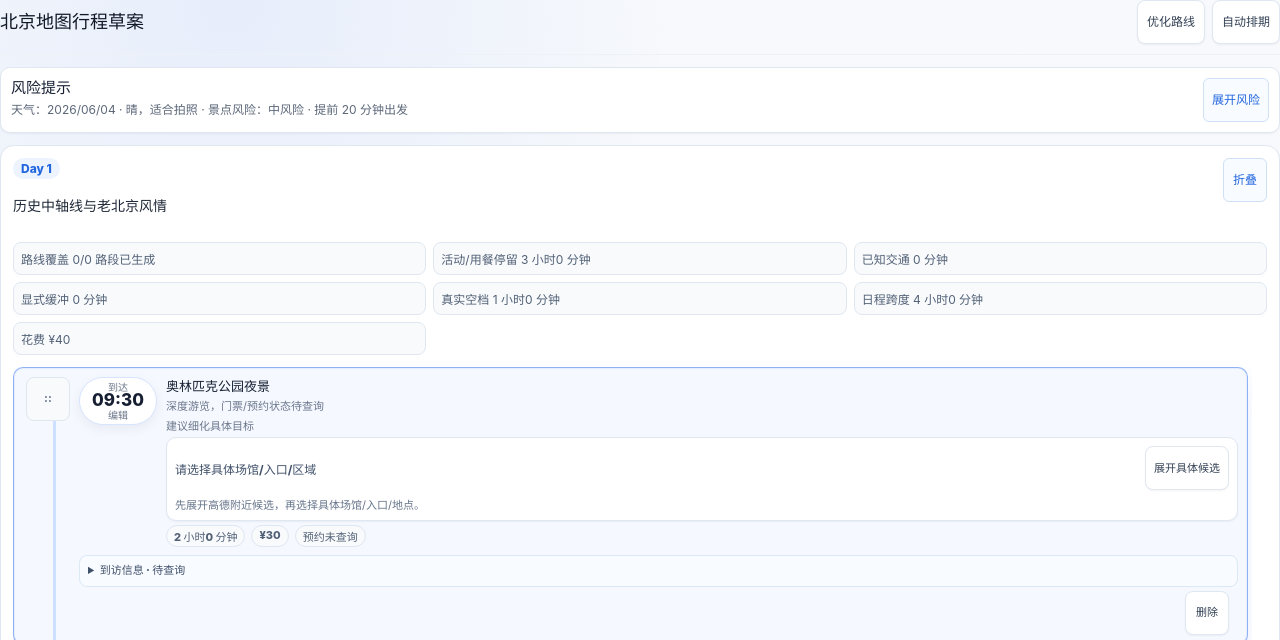
timeline expands concrete POI candidates and replaces from selected candidate
Click the button "展开具体候选" at (1187, 468), box [1145, 446, 1229, 490]
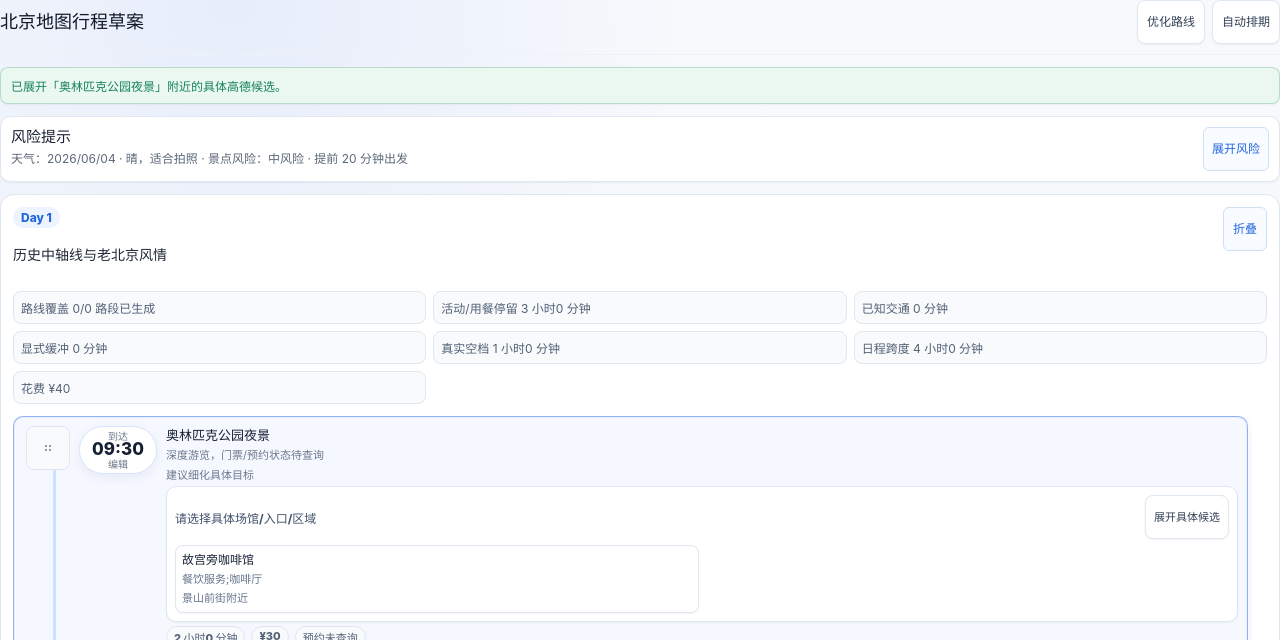
Expected: the text "故宫旁咖啡馆" is shown
Click the text "故宫旁咖啡馆" at (218, 560), box [182, 552, 254, 567]
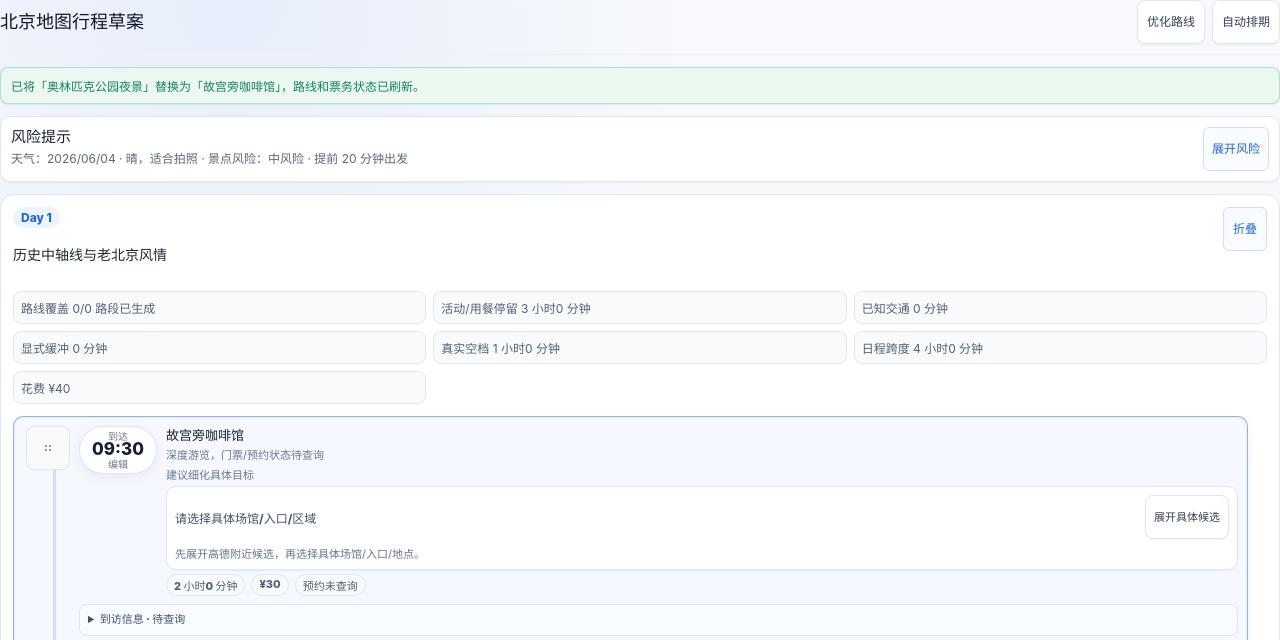
Expected: the text "故宫旁咖啡馆" is shown, [166, 427, 244, 443]
